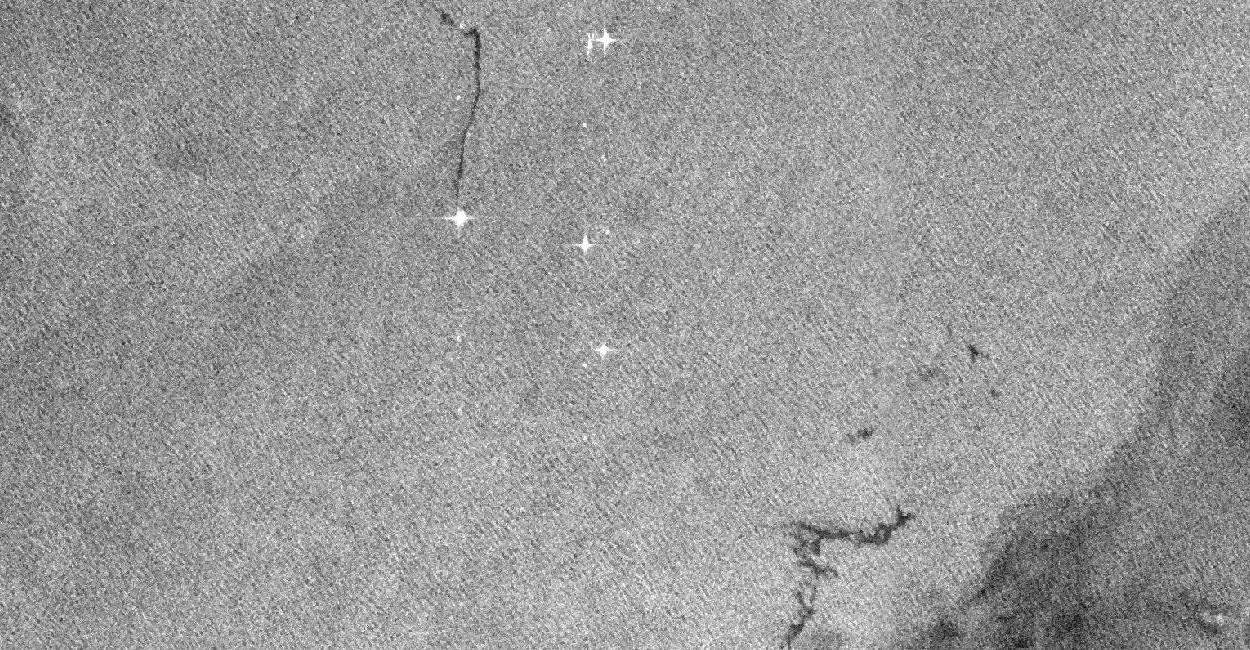Look-alike: (878, 326, 1250, 650)
Oil Spill: (758, 492, 952, 650), (418, 0, 492, 200), (806, 598, 812, 604), (808, 588, 812, 594), (893, 500, 896, 505), (866, 524, 868, 526), (454, 160, 456, 161)
